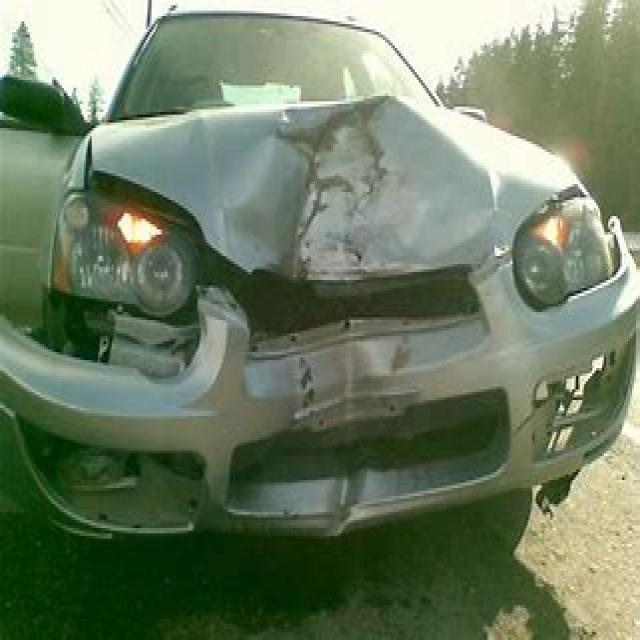Accident: (70, 48, 530, 507)
